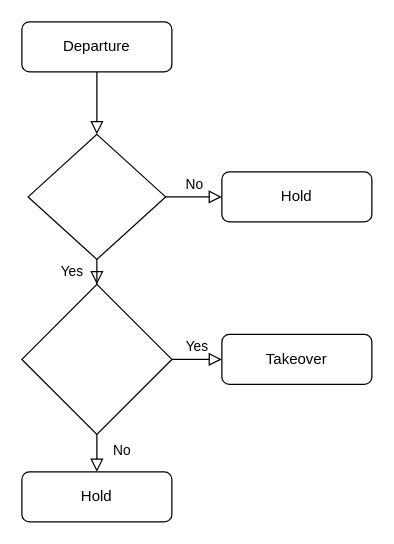
Image size: 394x544. Some labels were removed from this diagram. Here are the shapes that lost their labels. From the top down, the box of each, then its label:
(27, 133, 166, 259): Over 5000 m height?
(21, 283, 172, 434): Pilots ready to accept takeover?
